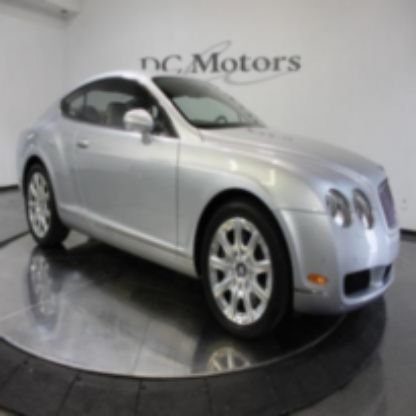Vehicle: (14, 71, 401, 345)
